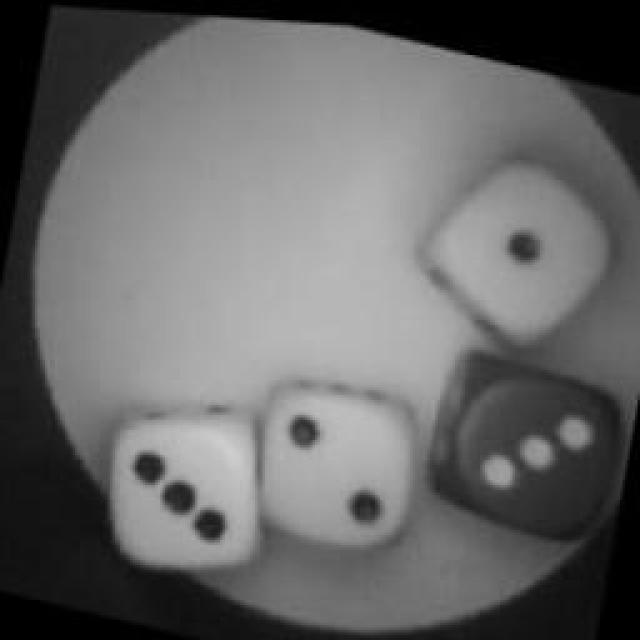dice_1: (402, 122, 626, 372)
dice_2: (245, 349, 430, 556)
dice_3: (410, 328, 640, 548), (88, 372, 278, 598)
